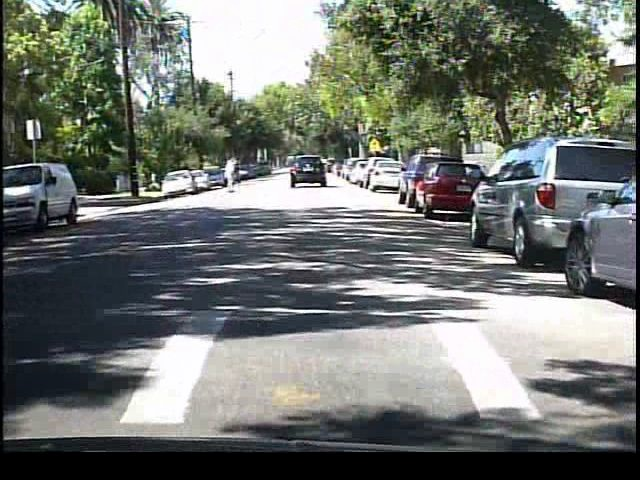person: (220, 152, 242, 194)
